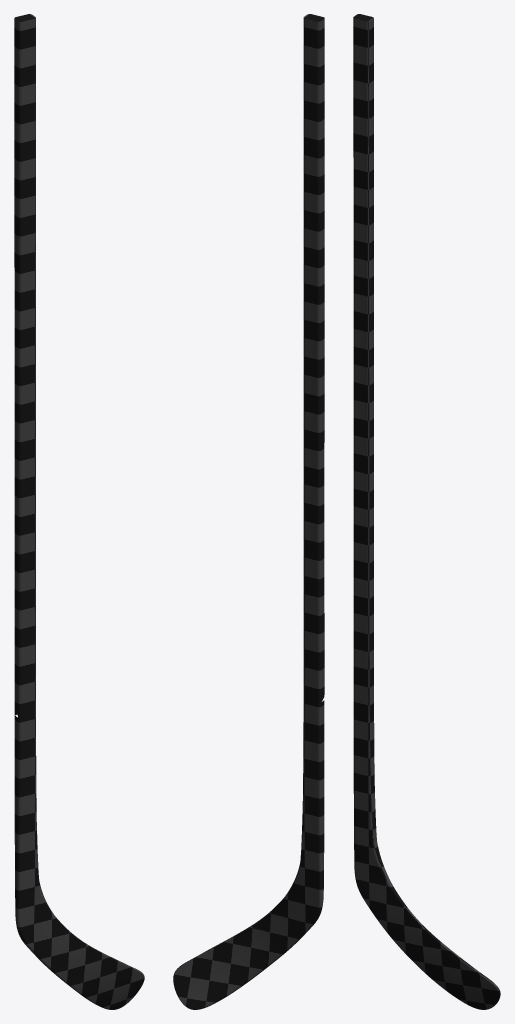
3 views of the same model, side by side, from view 1: azimuth 30°, elevation 25°; view 2: azimuth 150°, elevation 25°; view 3: azimuth 330°, elevation 25° (orthographic). The views are drawn at different scales.
Visible parts, largest first — view 1: geometry_0; view 2: geometry_0; view 3: geometry_0.
Part boxes in pixels (x1,y1,x2,y2): geometry_0: (14,14,144,1009); geometry_0: (173,14,324,1009); geometry_0: (353,14,500,1009).
Bounding box in the file's own units: 236 × 1650 × 57.58.
1 material, 1 textured.
